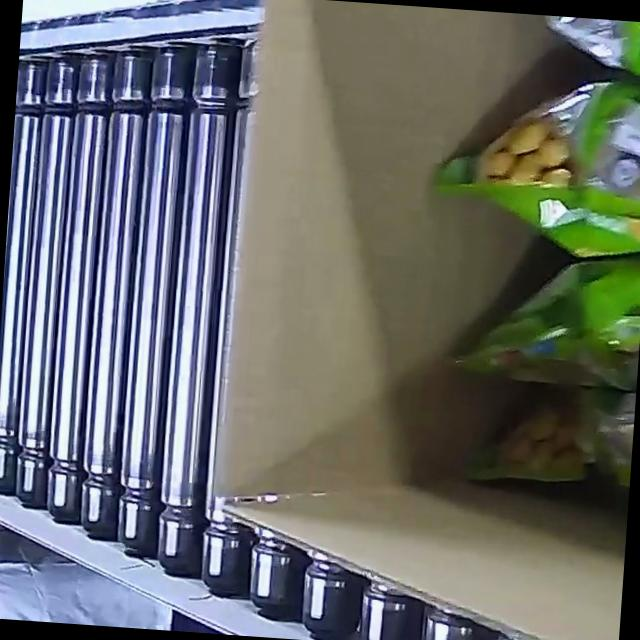yogurt: (403, 7, 640, 556)
